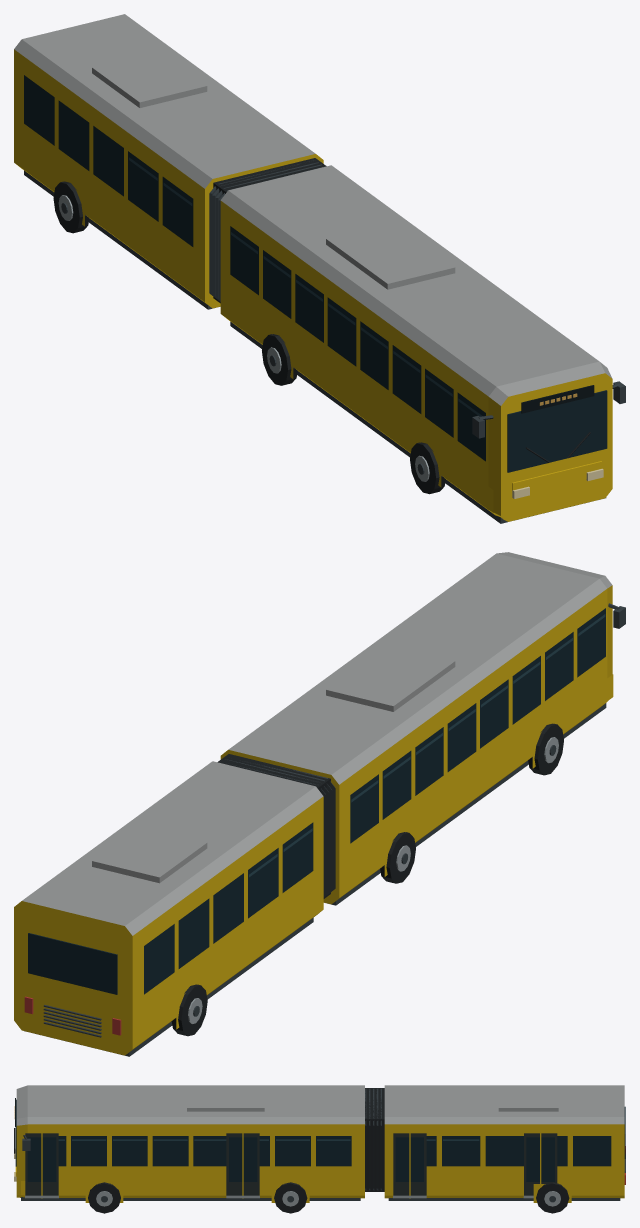
File: bus-bvg-articulated.glb
The picture shows the model from 3 angles, top to bottom: view 1: azimuth 30°, elevation 25°; view 2: azimuth 150°, elevation 25°; view 3: azimuth 270°, elevation 25°; orthographic projection. The views are drawn at different scales.
Parts seen in each view (by area): view 1: bus-bvg-articulated.segment-01.005, bus-bvg-articulated.segment-02.005; view 2: bus-bvg-articulated.segment-01.005, bus-bvg-articulated.segment-02.005; view 3: bus-bvg-articulated.segment-01.005, bus-bvg-articulated.segment-02.005.
Boxes of the visible parts, <box> form: bus-bvg-articulated.segment-01.005: <box>209,158,625,523</box>; bus-bvg-articulated.segment-02.005: <box>14,14,323,309</box>; bus-bvg-articulated.segment-01.005: <box>217,552,625,905</box>; bus-bvg-articulated.segment-02.005: <box>14,761,323,1056</box>; bus-bvg-articulated.segment-01.005: <box>14,1085,384,1213</box>; bus-bvg-articulated.segment-02.005: <box>384,1085,625,1213</box>.
Bounding box in the file's own units: 3.16 × 3.15 × 18.12.
